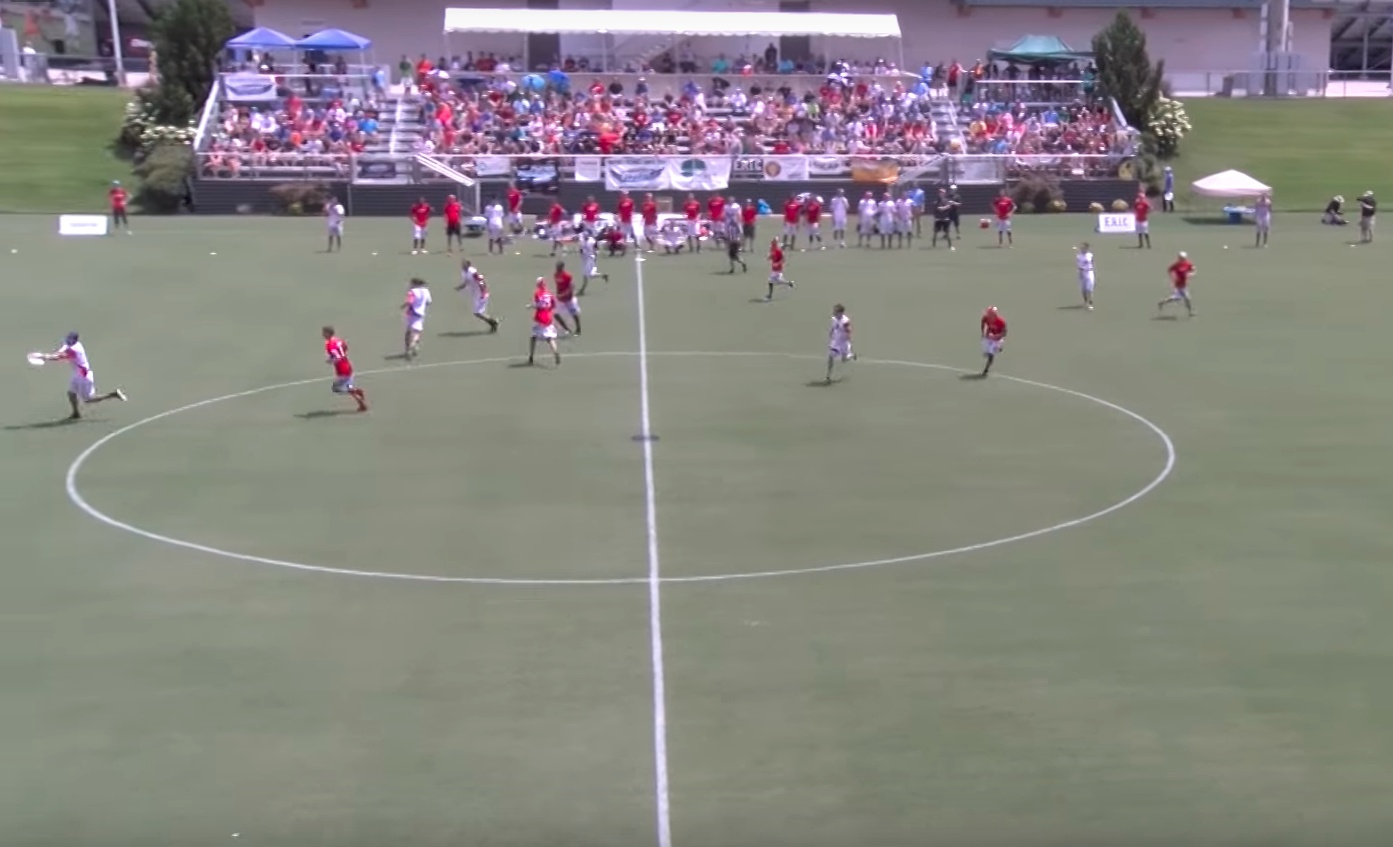frisbee: (26, 352, 46, 365), (635, 257, 647, 262)
